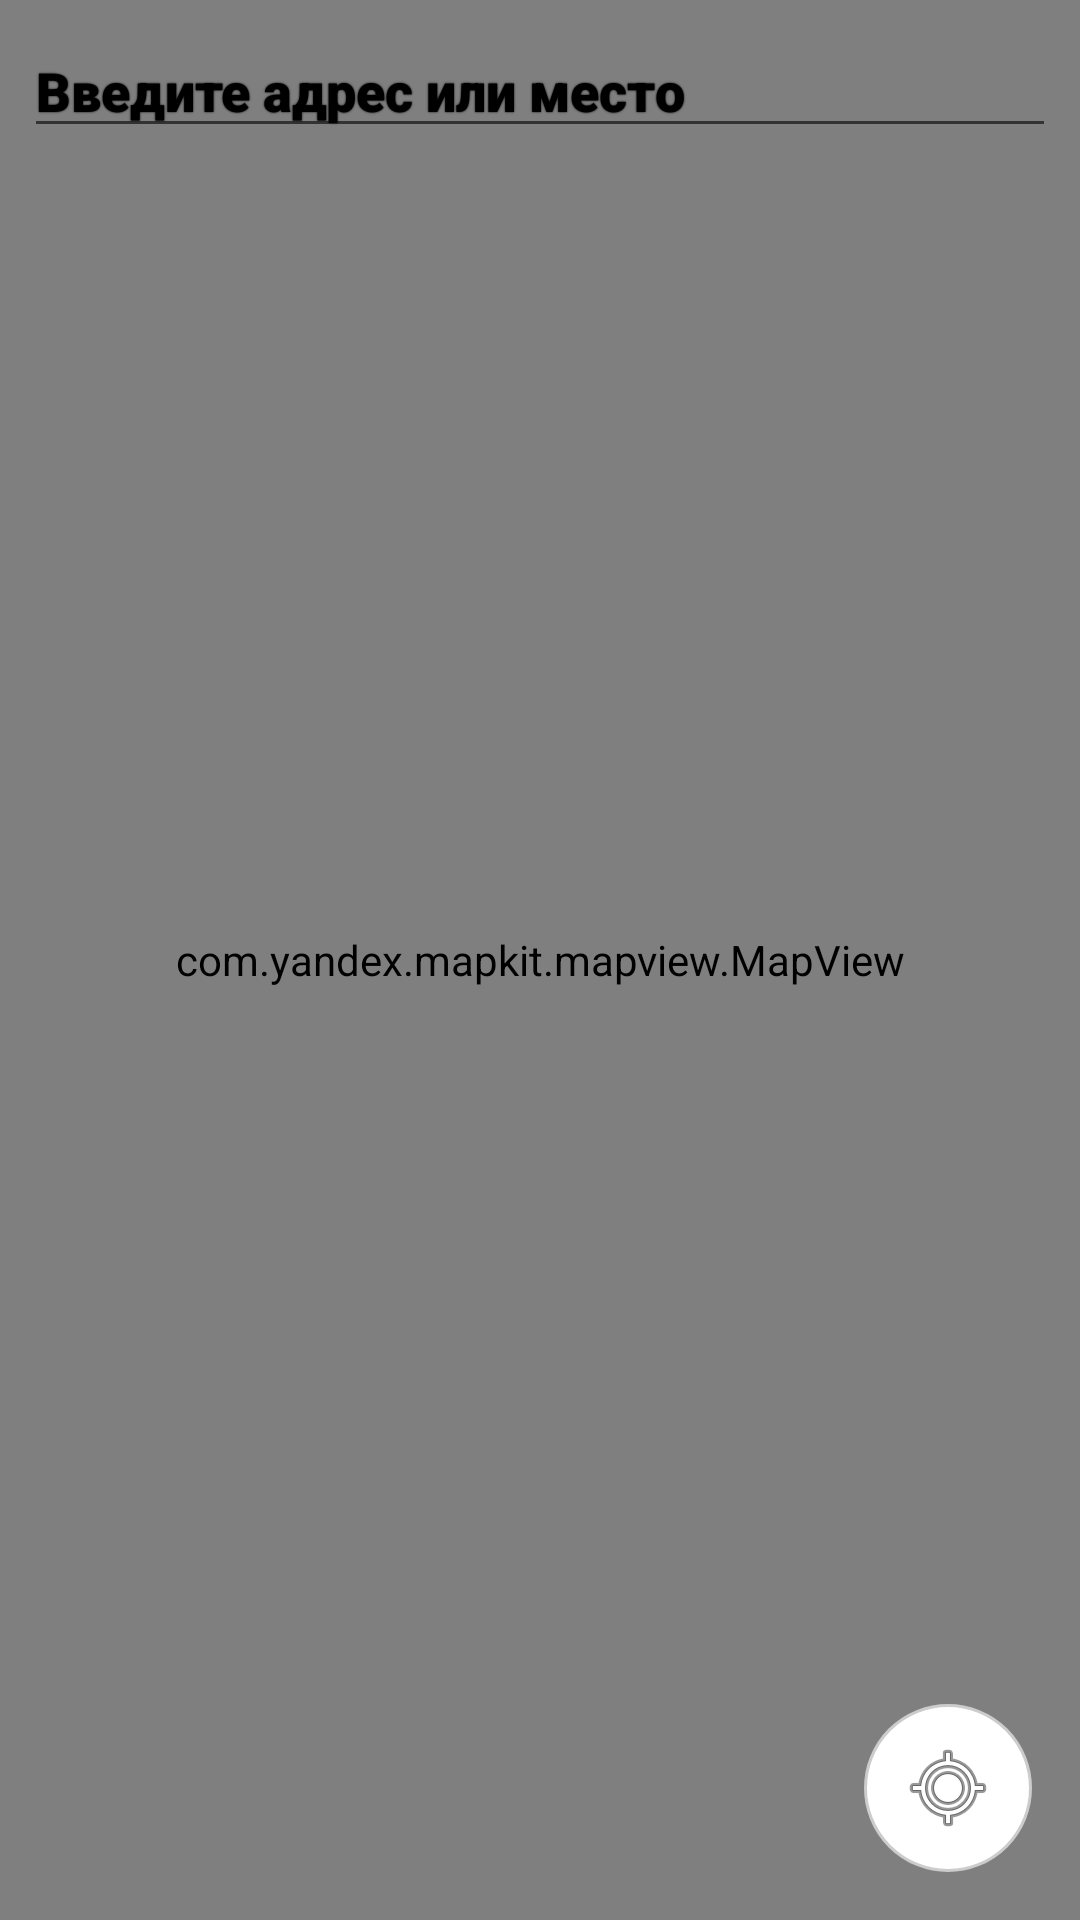

Locate icon controls on the screen. Image size 1080px×1920px, boxes as bbox=(x1, y1, x2, y2).
mylocation: bbox=(864, 1704, 1032, 1872)
